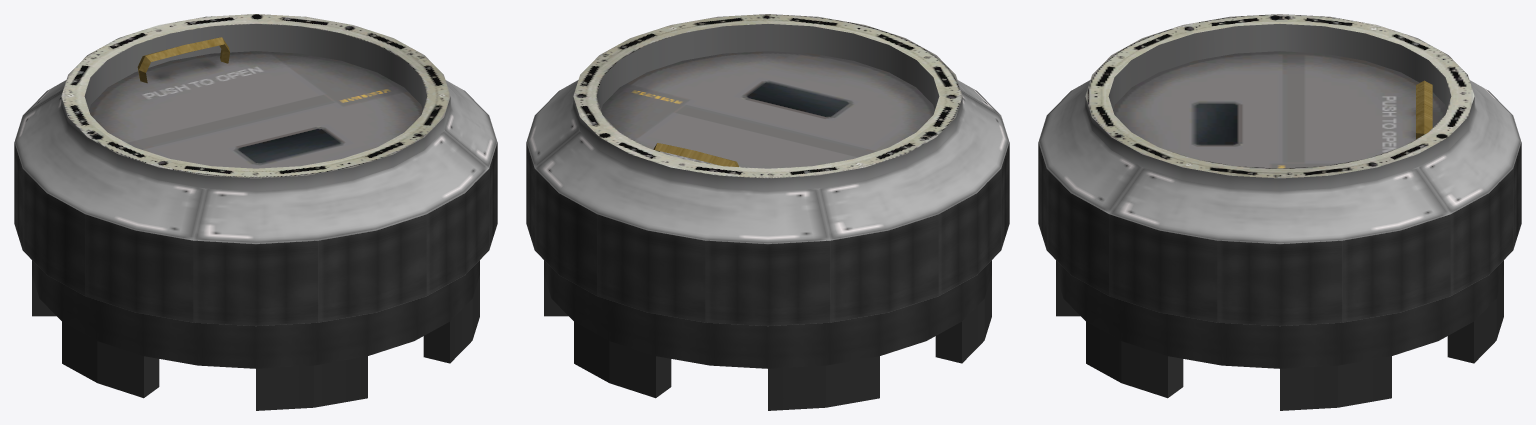
The model's file is Mk1RadialDockingPort.FBX.
3 views of the same model, side by side, from view 1: azimuth 30°, elevation 25°; view 2: azimuth 150°, elevation 25°; view 3: azimuth 270°, elevation 25° (orthographic).
Visible parts, largest first — view 1: MainBody, Cylinder001, MainBody001, HatchHandle; view 2: MainBody, Cylinder001, MainBody001, HatchHandle; view 3: MainBody, Cylinder001, MainBody001, HatchHandle.
Part boxes in pixels (x1,y1,x2,y2): MainBody: (14, 14, 497, 243); Cylinder001: (14, 142, 497, 326); MainBody001: (32, 260, 479, 410); HatchHandle: (137, 37, 229, 83); MainBody: (526, 14, 1009, 243); Cylinder001: (526, 142, 1009, 326); MainBody001: (544, 260, 991, 410); HatchHandle: (653, 143, 738, 166); MainBody: (1038, 14, 1521, 243); Cylinder001: (1038, 142, 1521, 326); MainBody001: (1056, 260, 1503, 410); HatchHandle: (1416, 80, 1432, 138).
Size of what is drawn, in the model's own units: 0.625 by 0.3141 by 0.625.
